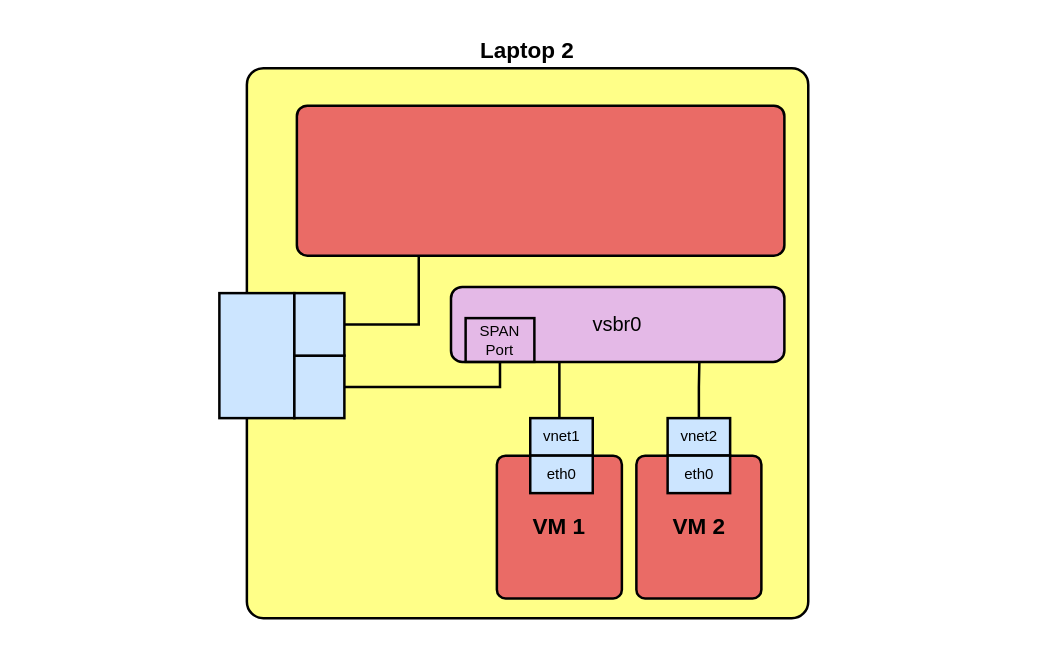
Some shapes in this 1055 by 668 pixel diagram are drawn without their labels. The shapes that lost their labels are listed below. From the top down, each one's centre as x and y in pixels, then its label:
At point (540, 180): "Userspace".
At point (318, 323): "VLAN 100".
At point (256, 355): "eth (eno1)".
At point (318, 386): "VLAN 300".
